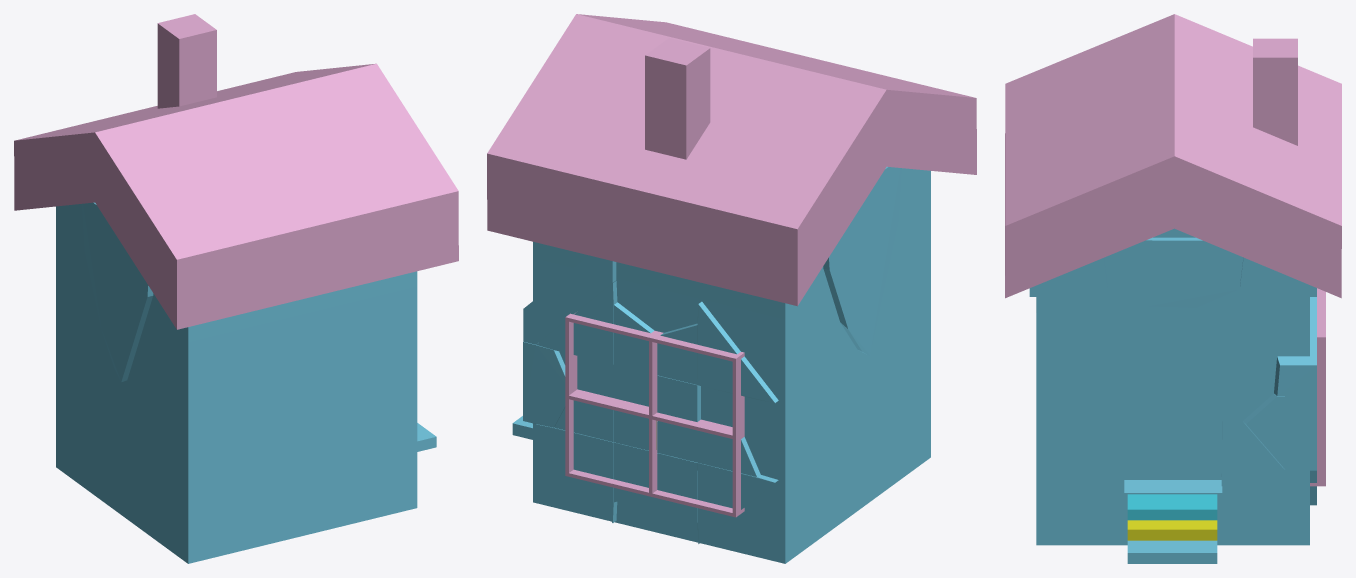
File: Hoome.fbx
3 views of the same model, side by side, from view 1: azimuth 30°, elevation 25°; view 2: azimuth 150°, elevation 25°; view 3: azimuth 270°, elevation 25° (orthographic). The views are drawn at different scales.
Parts seen in each view (by area): view 1: Cube, Cube.001, Cube_cell.004, Cube_cell.006, Cube_cell.014, Cube_cell.012, Cube.001_cell.007, Cube.001_cell.001, Cube.001_cell, Cube.001_cell.006, Cube_cell.010, Cube_cell.045 (+7 smaller); view 2: Cube.001, Cube, Cube_cell.014, Cube_cell.045, Cube_cell.012, Cube.010, Cube_cell.004, Cube.009, Cube_cell.035, Cube_cell.030, Cube_cell.043, Cube_cell.032 (+20 smaller); view 3: Cube.001, Cube, Cube_cell.013, Cube_cell.003, Cube.001_cell.002, Cube_cell.043, Cube.010, Cube_cell.006, Cube_cell.001, Cube_cell.007, Cube_cell, Cube_cell.009 (+21 smaller).
Part boxes in pixels (<box>): Cube: <box>56,224,417,563</box>; Cube.001: <box>14,63,458,328</box>; Cube_cell.004: <box>127,297,302,452</box>; Cube_cell.006: <box>302,271,417,392</box>; Cube_cell.014: <box>82,202,153,381</box>; Cube_cell.012: <box>89,382,148,525</box>; Cube.001_cell.007: <box>136,199,317,294</box>; Cube.001_cell.001: <box>140,260,317,329</box>; Cube.001_cell: <box>318,226,458,295</box>; Cube.001_cell.006: <box>318,191,458,260</box>; Cube_cell.010: <box>291,334,397,418</box>; Cube_cell.045: <box>56,321,127,420</box>; Cube.001: <box>487,14,976,306</box>; Cube: <box>533,169,930,563</box>; Cube_cell.014: <box>823,166,901,355</box>; Cube_cell.045: <box>744,350,863,481</box>; Cube_cell.012: <box>821,354,894,503</box>; Cube.010: <box>645,38,710,159</box>; Cube_cell.004: <box>864,192,930,361</box>; Cube.009: <box>565,313,744,515</box>; Cube_cell.035: <box>523,255,616,344</box>; Cube_cell.030: <box>697,301,778,402</box>; Cube_cell.043: <box>523,342,565,427</box>; Cube_cell.032: <box>702,480,785,553</box>; Cube.001: <box>1005,14,1341,298</box>; Cube: <box>1036,228,1309,545</box>; Cube_cell.013: <box>1104,237,1243,307</box>; Cube_cell.003: <box>1036,421,1132,545</box>; Cube.001_cell.002: <box>1089,192,1258,262</box>; Cube_cell.043: <box>1243,394,1316,470</box>; Cube.010: <box>1253,38,1297,145</box>; Cube_cell.006: <box>1036,297,1096,421</box>; Cube_cell.001: <box>1196,421,1279,507</box>; Cube_cell.007: <box>1036,459,1098,545</box>; Cube_cell: <box>1196,290,1273,420</box>; Cube_cell.009: <box>1196,408,1222,486</box>.
Bounding box in the file's own units: 278 × 355 × 246.
